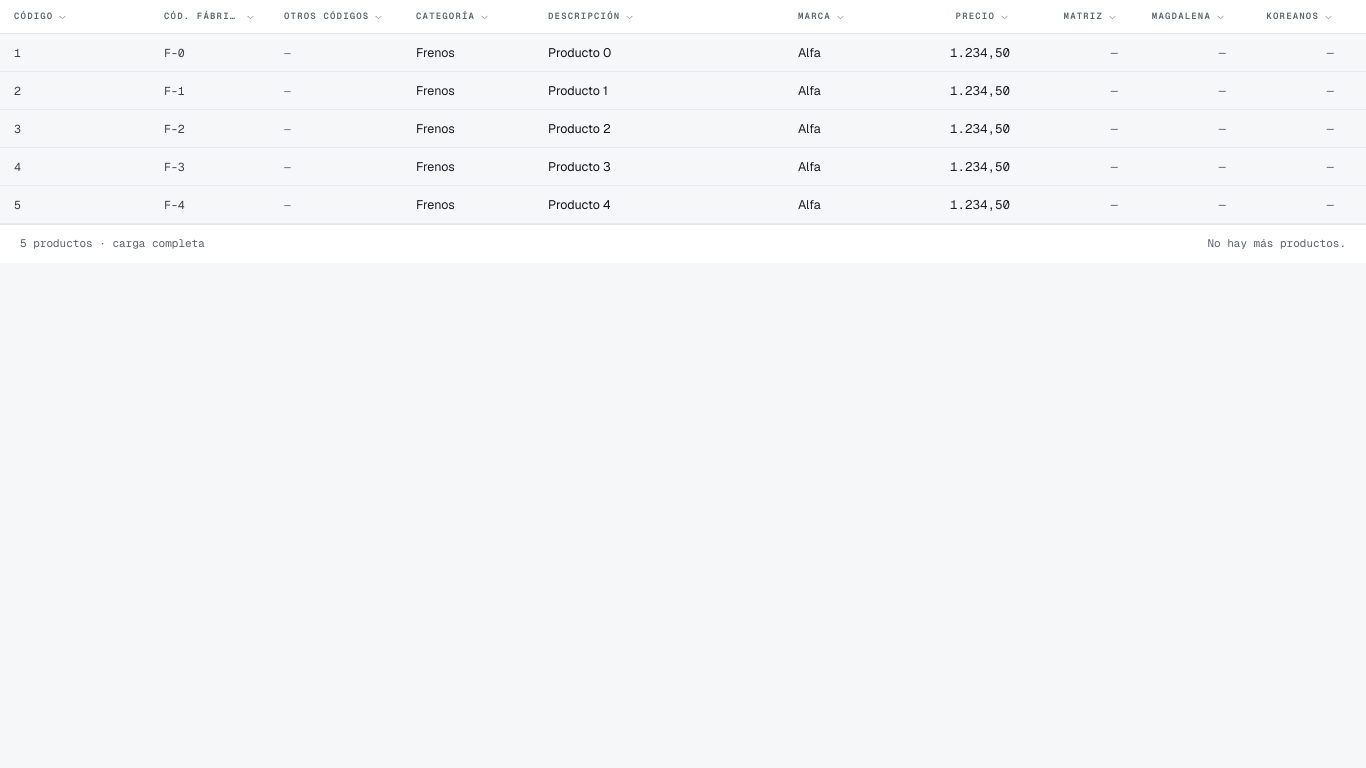
Test: CatalogoProductos: la tabla › la columna de precio Magdalena se ordena pero no se filtra: el panel es solo de orden
The width and height of the screenshot is (1366, 768).
Step 1. Click the button "Magdalena" → (1186, 17), box [1132,0,1240,34]
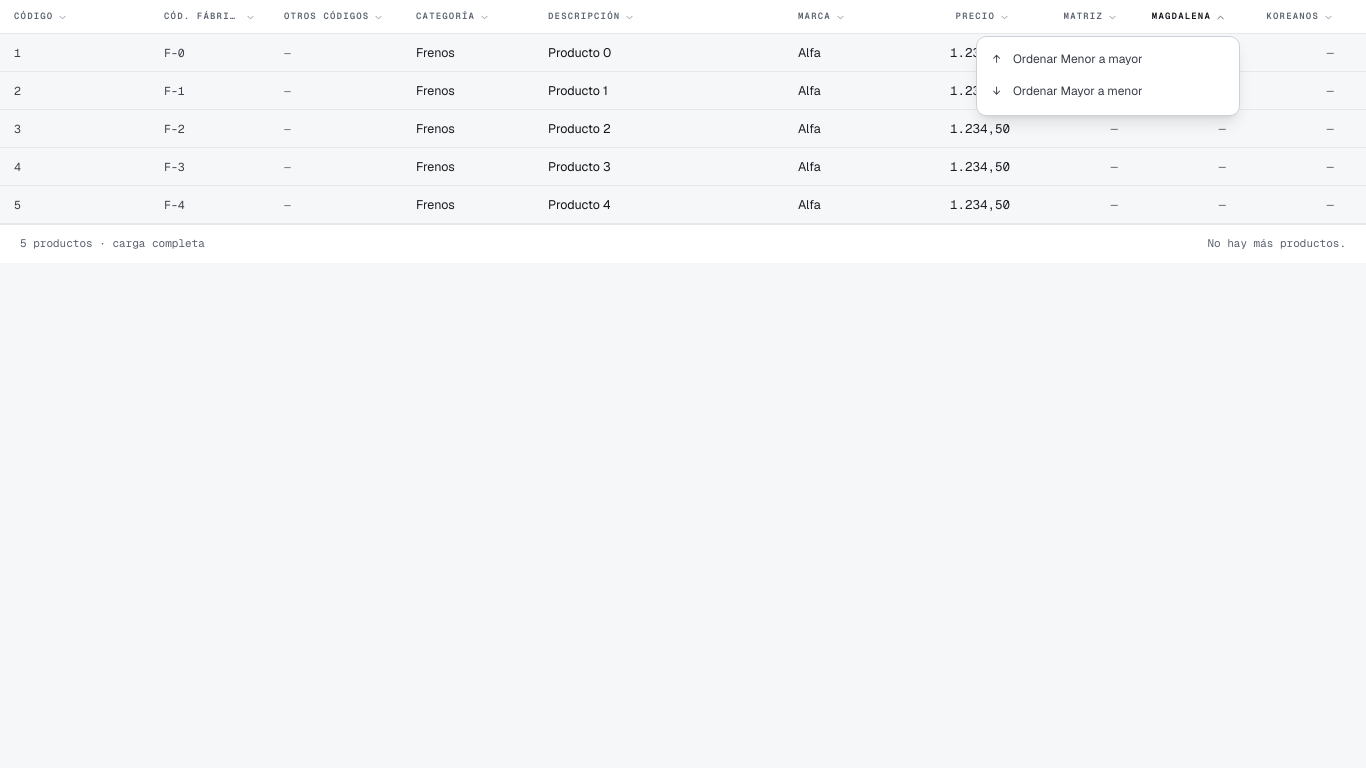
Step 2. Click the button "↑ Ordenar Menor a mayor" → (1108, 60), box [985,45,1231,75]
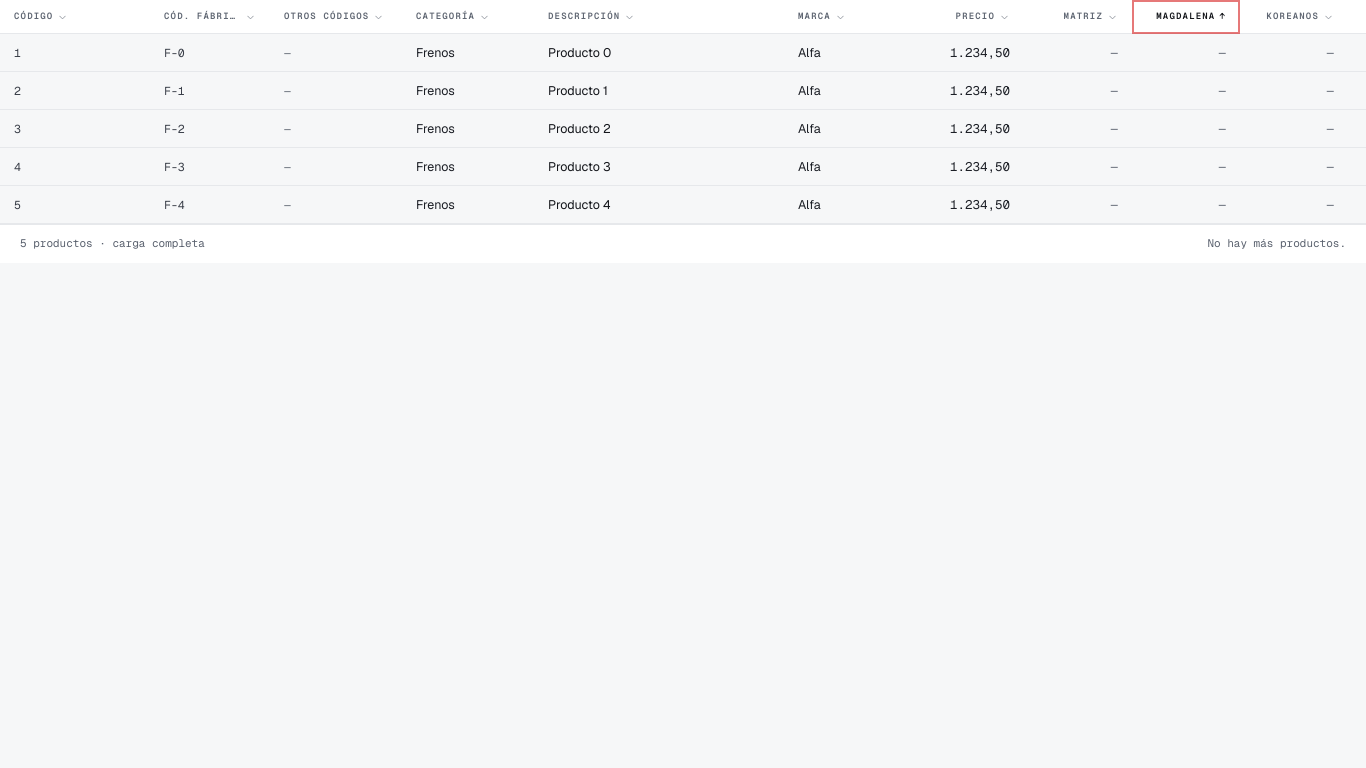
Expected: the dialog is gone
